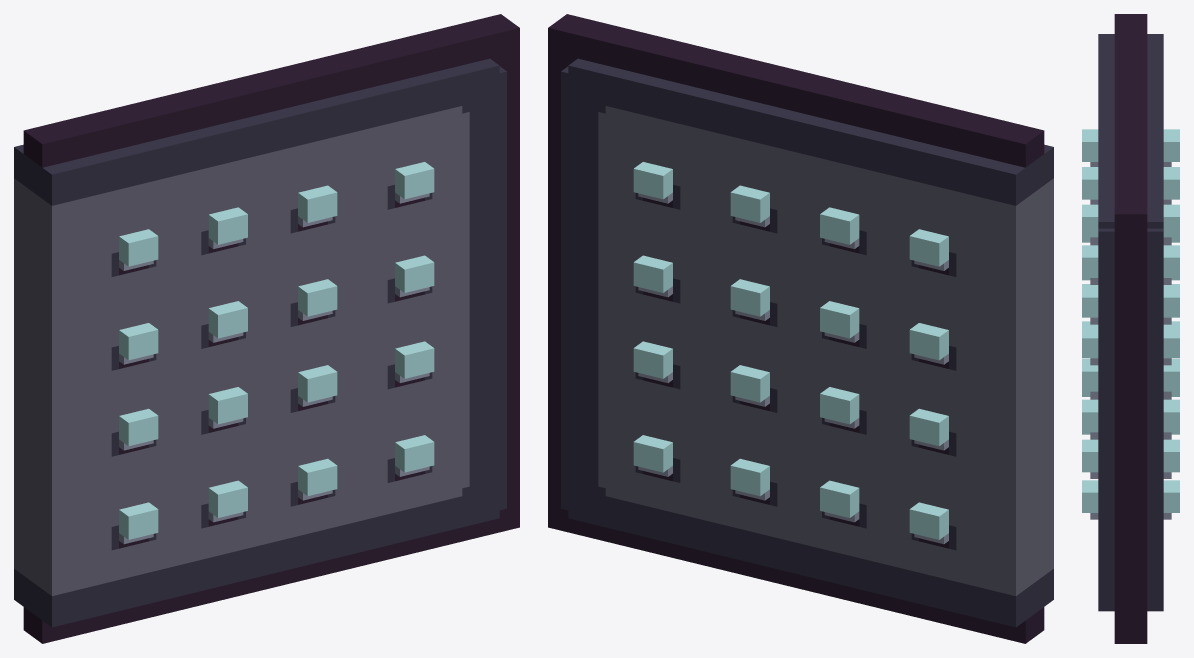
The model's file is pc_klavye_kenar.fbx.
3 views of the same model, side by side, from view 1: azimuth 30°, elevation 25°; view 2: azimuth 150°, elevation 25°; view 3: azimuth 270°, elevation 25° (orthographic). The views are drawn at different scales.
Parts seen in each view (by area): view 1: generated; view 2: generated; view 3: generated.
Part boxes in pixels (bbox=[...]): generated: bbox=[14, 14, 519, 643]; generated: bbox=[548, 14, 1053, 643]; generated: bbox=[1082, 14, 1179, 643].
Bounding box in the file's own units: 640 × 640 × 132.
